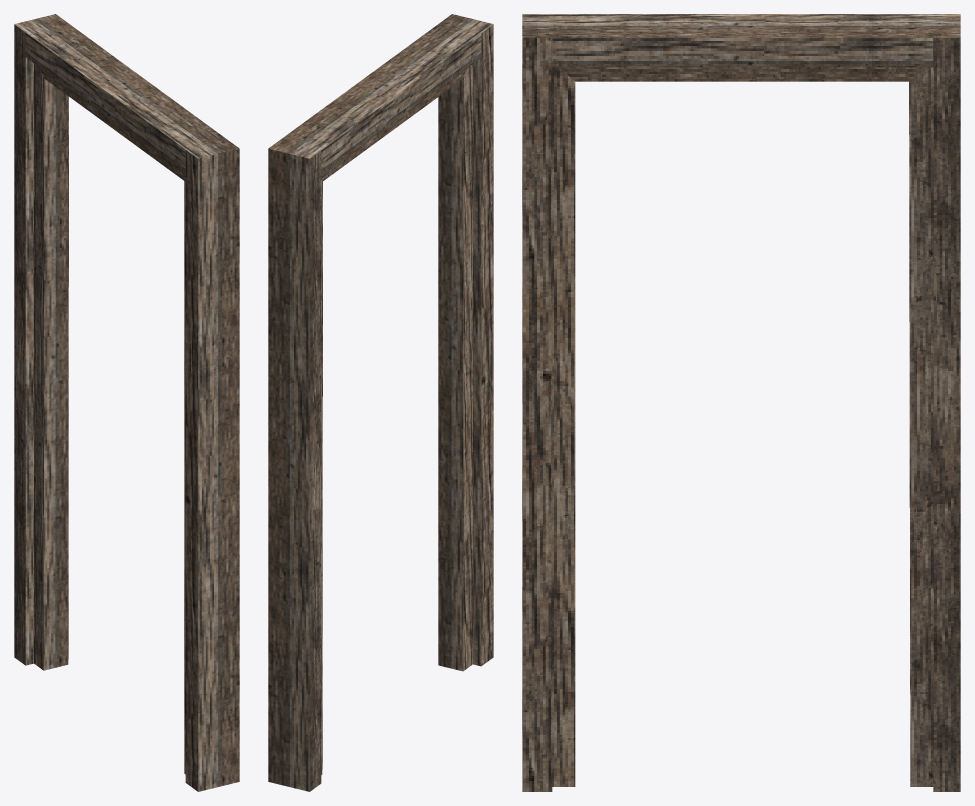
The model's file is _Doorway_1.FBX.
3 renders of one model, left to right at view 1: azimuth 30°, elevation 25°; view 2: azimuth 150°, elevation 25°; view 3: azimuth 270°, elevation 25°, orthographic. The views are drawn at different scales.
Parts seen in each view (by area): view 1: _Doorway_1; view 2: _Doorway_1; view 3: _Doorway_1.
Part boxes in pixels (bbox=[...]): _Doorway_1: bbox=[14, 14, 239, 791]; _Doorway_1: bbox=[268, 14, 493, 791]; _Doorway_1: bbox=[522, 14, 960, 791].
Bounding box in the file's own units: 12.4 × 180 × 95.02.
1 material, 1 textured.
